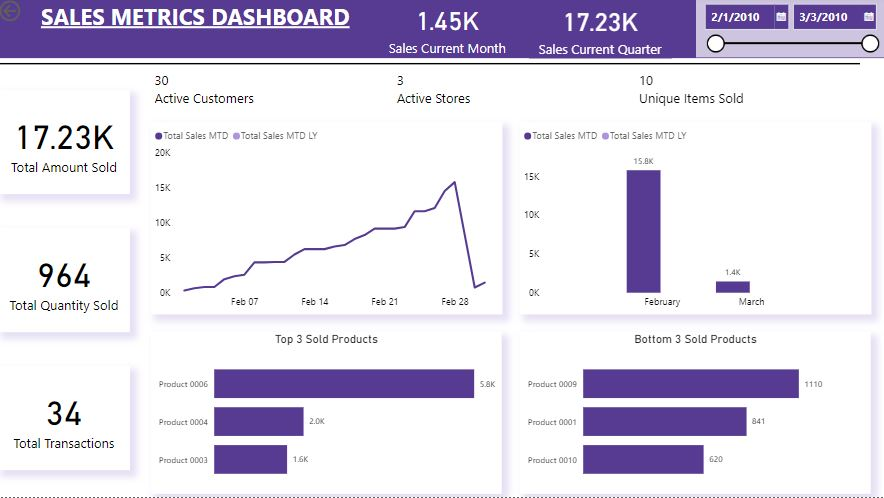

Layout of this report page (visuals, bound fields, positions):
{"tool":"powerbi","page":{"name":"Dashboard","canvas":[1280,720],"ordinal":0},"visuals":[{"type":"shape","box":[0,89,1280,13.4],"z":0},{"type":"textbox","box":[0,0,1280,89],"z":1000},{"type":"slicer","fields":{"Values":["Calendar.Date"]},"box":[1007.9,0,272.1,87.3],"z":3000},{"type":"card","fields":{"Values":["DAX Measures.Sales Current Month"]},"box":[551,0,196.5,87.3],"z":4000},{"type":"card","fields":{"Values":["DAX Measures.Sales Current Quarter"]},"box":[767.7,1.7,204.9,87.3],"z":5000},{"type":"card","fields":{"Values":["DAX Measures.Total Amount Sold"]},"box":[3.4,134.4,189.8,149.5],"z":6000},{"type":"card","fields":{"Values":["DAX Measures.Total Quantity Sold"]},"box":[3.4,332.6,189.8,149.5],"z":7000},{"type":"card","fields":{"Values":["DAX Measures.Total Transactions"]},"box":[3.4,530.8,189.8,149.5],"z":8000},{"type":"multiRowCard","fields":{"Values":["DAX Measures.Active Customers","DAX Measures.Active Stores","DAX Measures.Unique Items Sold"]},"box":[223.4,102.5,1056.6,62.2],"z":9000},{"type":"clusteredColumnChart","fields":{"Category":["Calendar.Date.Variation.Date Hierarchy.Month"],"Y":["DAX Measures.Total Sales MTD","DAX Measures.Total Sales MTD LY"]},"box":[754.2,179.7,505.6,277.2],"z":10000},{"type":"actionButton","box":[0,0,100,40],"z":11000},{"type":"lineChart","fields":{"Category":["Calendar.Date.Variation.Date Hierarchy.Year","Calendar.Date.Variation.Date Hierarchy.Quarter","Calendar.Date.Variation.Date Hierarchy.Month","Calendar.Date.Variation.Date Hierarchy.Day"],"Y":["DAX Measures.Total Sales MTD","DAX Measures.Total Sales MTD LY"]},"box":[223.4,179.7,505.6,277.2],"z":12000},{"type":"clusteredBarChart","title":"Top 3 Sold Products","fields":{"Category":["Sheet1.Product Name"],"Y":["DAX Measures.Total Amount Sold"]},"box":[223.2,482.4,505.4,233.3],"z":13000},{"type":"clusteredBarChart","title":"Bottom 3 Sold Products","fields":{"Category":["Sheet1.Product Name"],"Y":["DAX Measures.Total Amount Sold"]},"box":[754.6,482.4,505.4,233.3],"z":14000}]}

Visuals, with their boxes in screenshot pixels (x1, y1, x2, y2), scaled from the page's 1280x720 canvas onto the 884x498 screenshot:
shape: region(0, 62, 883, 71)
textbox: region(0, 0, 883, 62)
slicer - Calendar.Date: region(696, 0, 883, 60)
card - DAX Measures.Sales Current Month: region(381, 0, 516, 60)
card - DAX Measures.Sales Current Quarter: region(530, 1, 672, 62)
card - DAX Measures.Total Amount Sold: region(2, 93, 133, 196)
card - DAX Measures.Total Quantity Sold: region(2, 230, 133, 333)
card - DAX Measures.Total Transactions: region(2, 367, 133, 471)
multiRowCard - DAX Measures.Active Customers x DAX Measures.Active Stores: region(154, 71, 883, 114)
clusteredColumnChart - Calendar.Date.Variation.Date Hierarchy.Month x DAX Measures.Total Sales MTD: region(521, 124, 870, 316)
actionButton: region(0, 0, 69, 28)
lineChart - Calendar.Date.Variation.Date Hierarchy.Year x Calendar.Date.Variation.Date Hierarchy.Quarter: region(154, 124, 503, 316)
"Top 3 Sold Products" clusteredBarChart: region(154, 334, 503, 495)
"Bottom 3 Sold Products" clusteredBarChart: region(521, 334, 870, 495)
